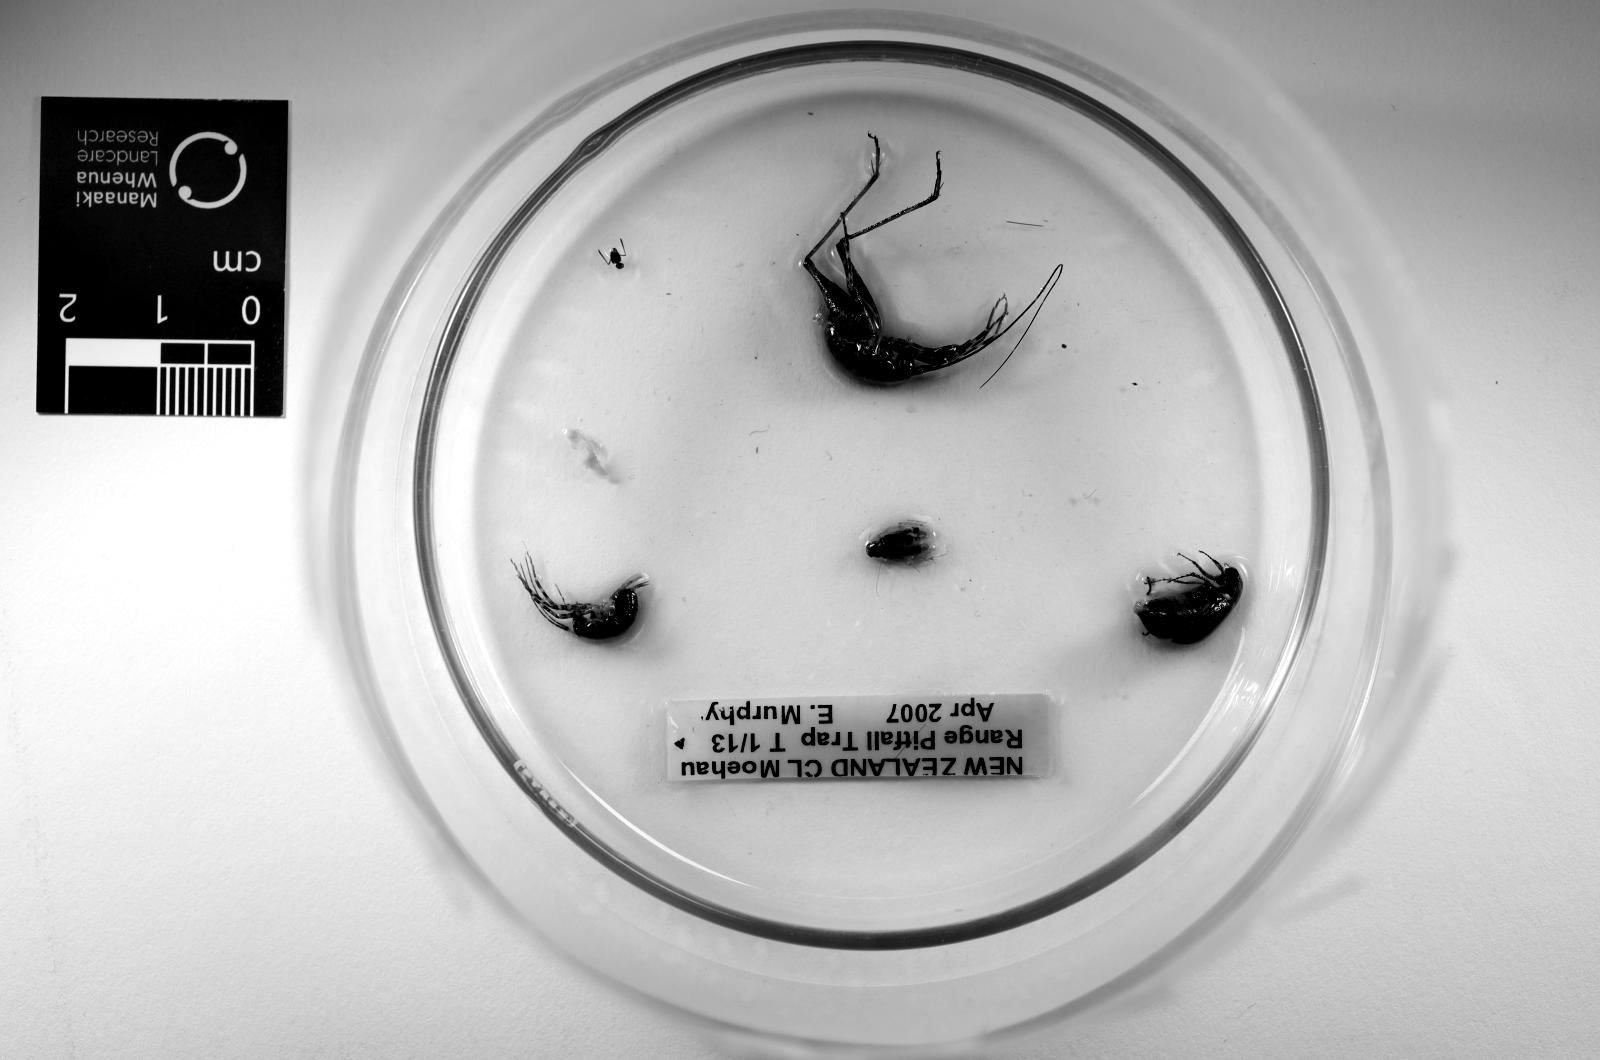blattodea: (866, 522, 944, 565)
coleoptera: (1134, 556, 1244, 643)
orthoptera: (803, 134, 1006, 382), (512, 553, 647, 640)
